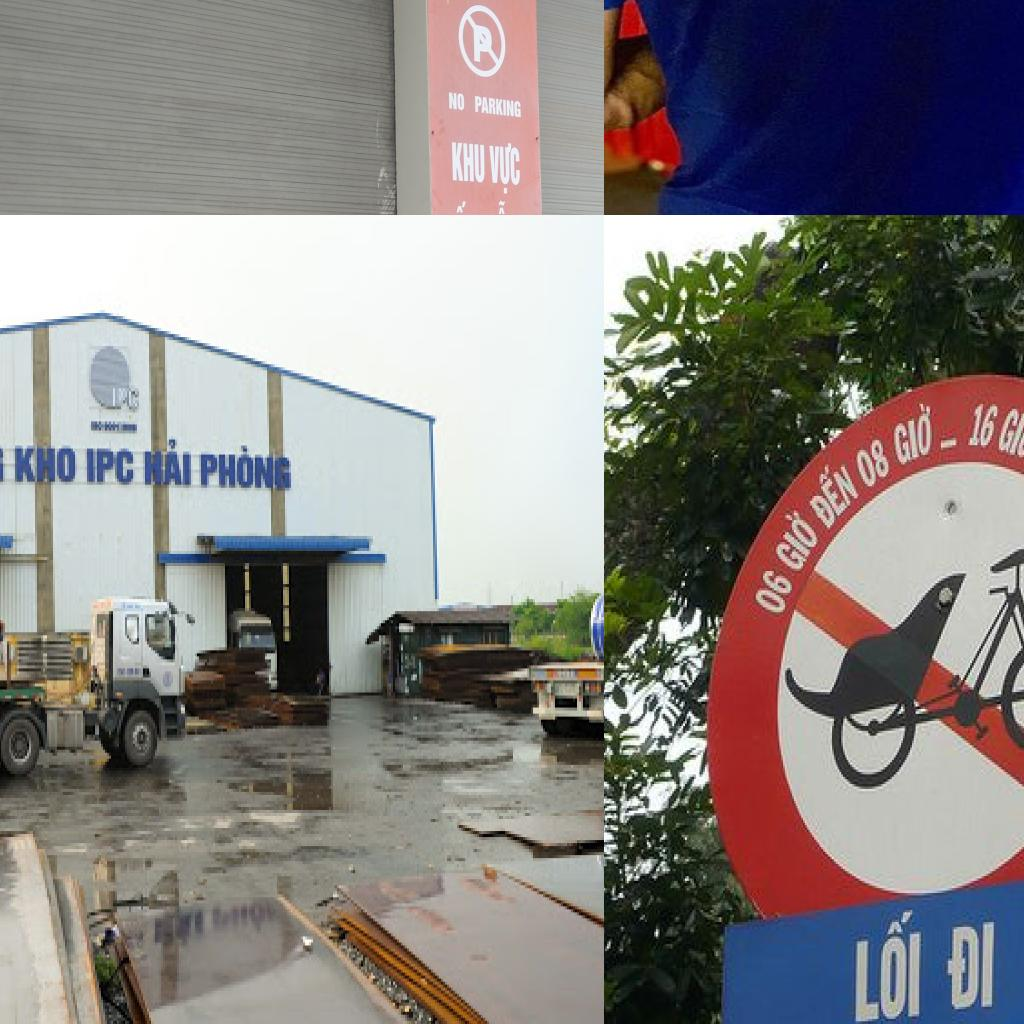text: (846, 897, 932, 1024), (943, 915, 1001, 1016), (799, 448, 861, 534), (199, 442, 293, 494), (766, 498, 826, 578), (745, 561, 796, 627), (892, 397, 936, 469), (13, 446, 79, 488), (143, 436, 193, 490), (854, 430, 892, 494), (85, 446, 137, 488), (486, 140, 524, 193), (997, 389, 1024, 462), (966, 401, 1001, 455), (447, 137, 486, 184), (472, 94, 522, 119), (470, 23, 492, 68), (111, 386, 143, 416), (437, 195, 482, 215), (481, 197, 509, 215), (447, 89, 465, 111)
